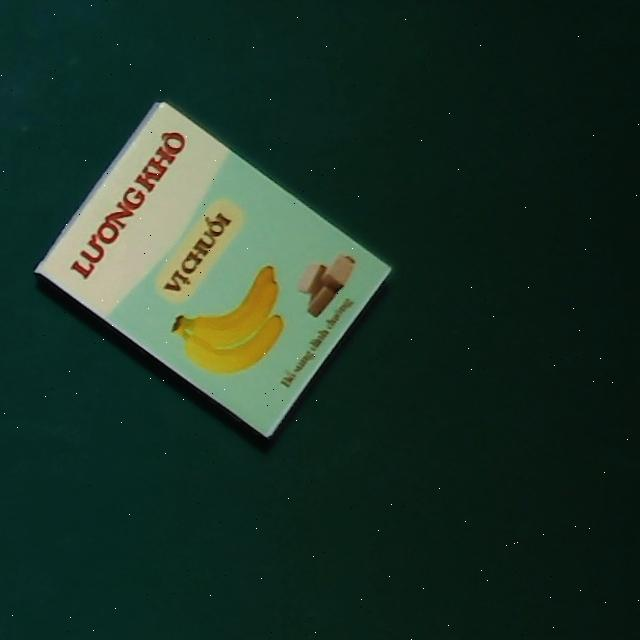chuoi: (32, 97, 393, 441)
